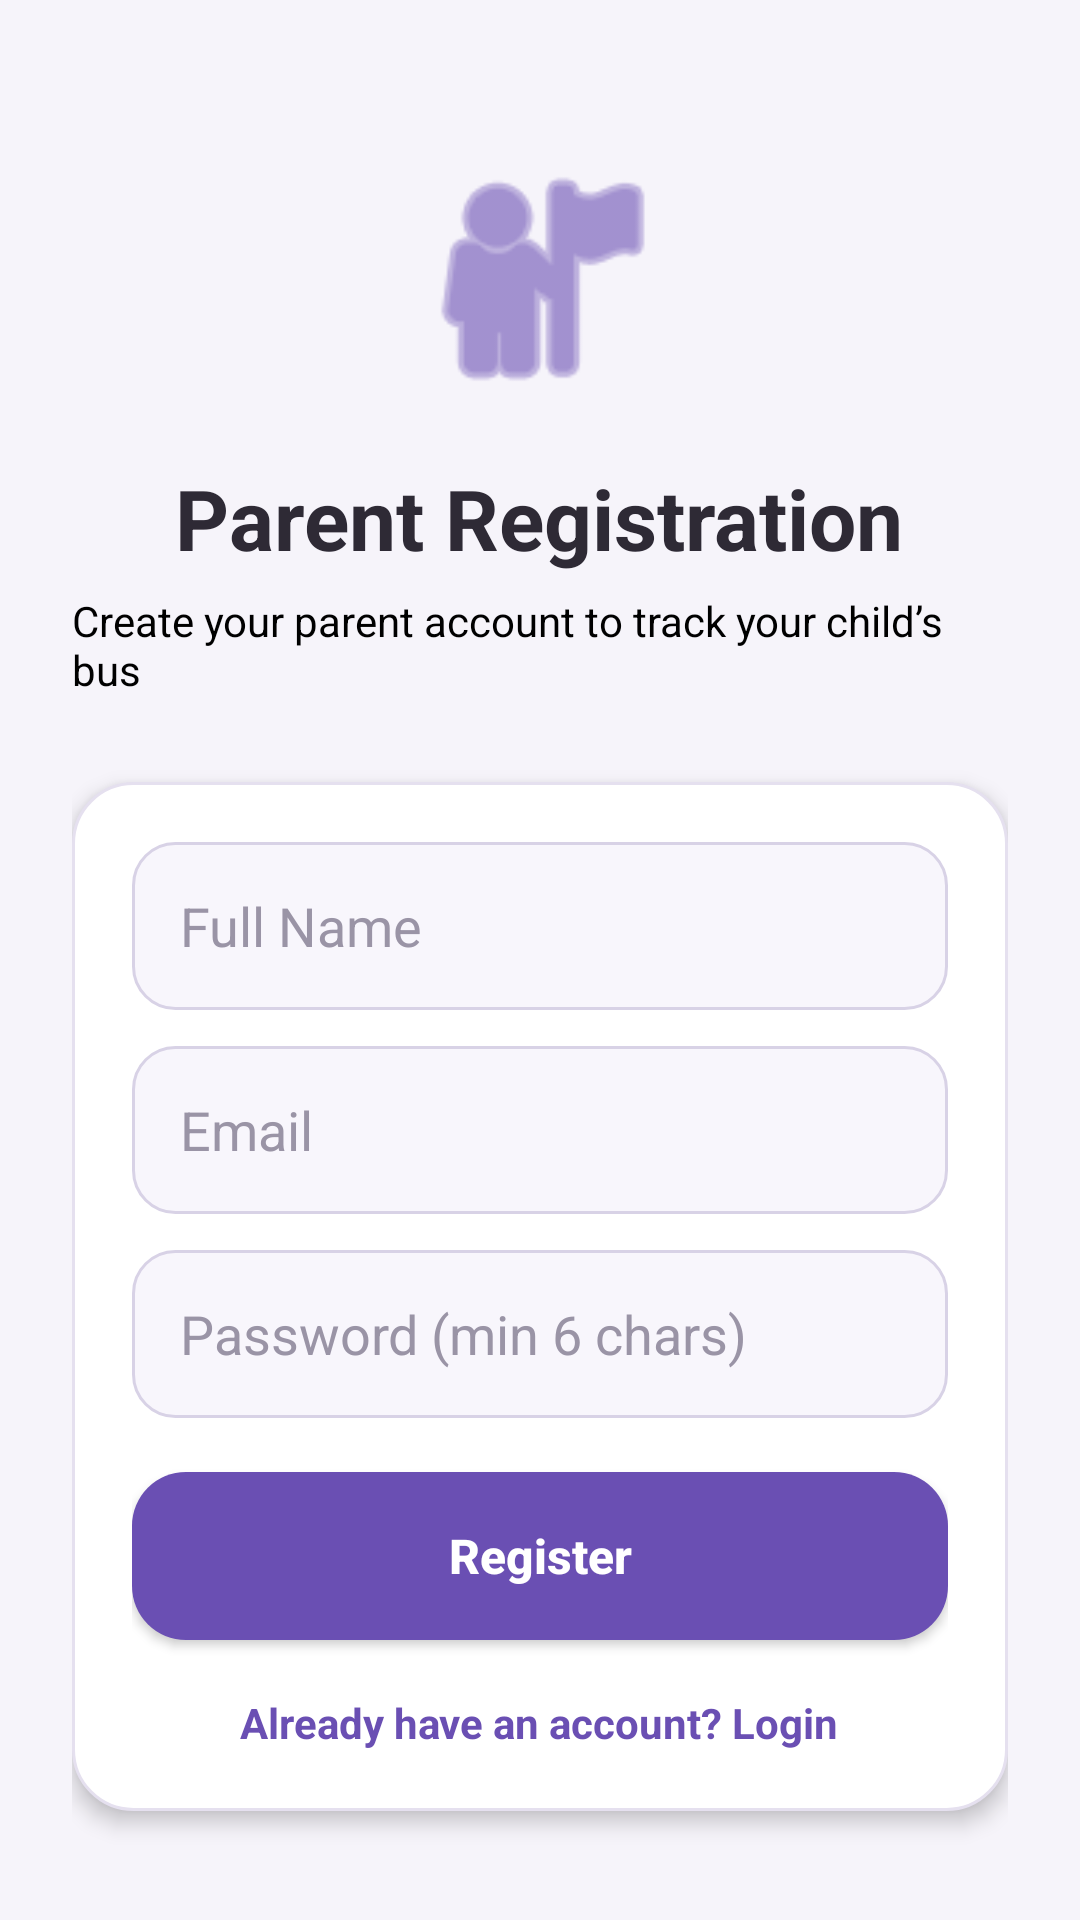

Locate icon controls on the screen. Image size 1080w x 1920h, boxes as (x1=x1, y1=y1, x2=x2, y2=y2).
Register Icon: (x1=442, y1=179, x2=644, y2=379)
